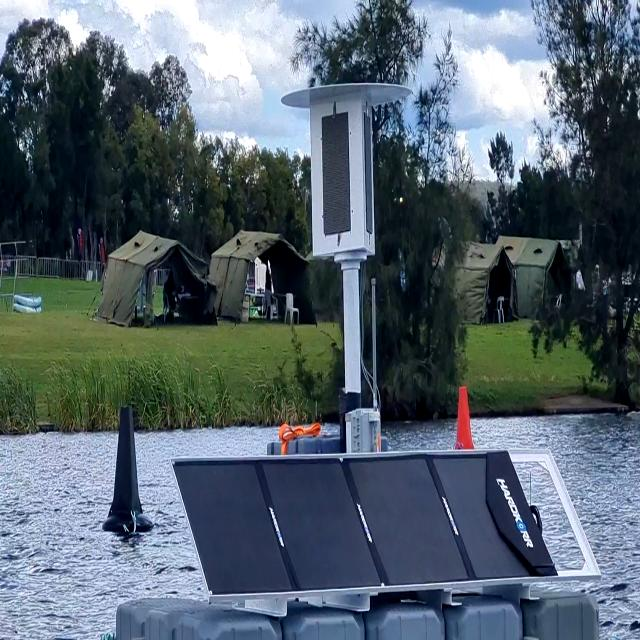led: (315, 103, 358, 244)
